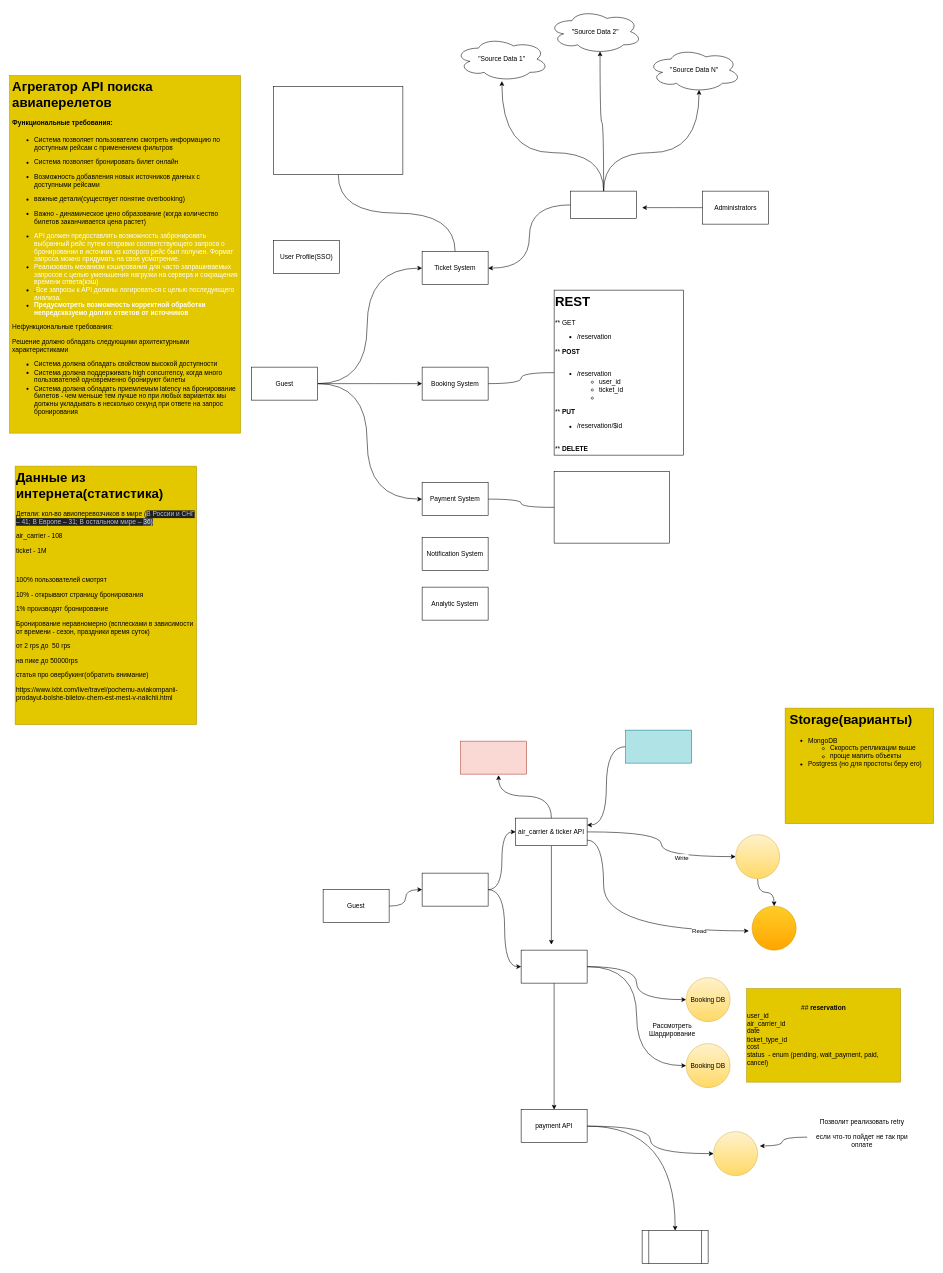
The diagram is 943 pixels wide and 1273 high, and some of its shapes have lost their labels. Here are the shapes that lost their labels. From the top down, the centre of each, then its label:
the point at 338,130: REST GET /tickets /tickets/ticket_type /ticket_type/$id
the point at 603,205: Management system
the point at 612,507: REST ** POST /payments
the point at 493,757: air_carrier & ticker cache
the point at 658,746: Management
the point at 757,856: DB
the point at 455,889: api gateway (load balancer)
the point at 774,928: DB slave
the point at 554,966: booking API
the point at 735,1153: Payment DB
the point at 675,1247: External provider
